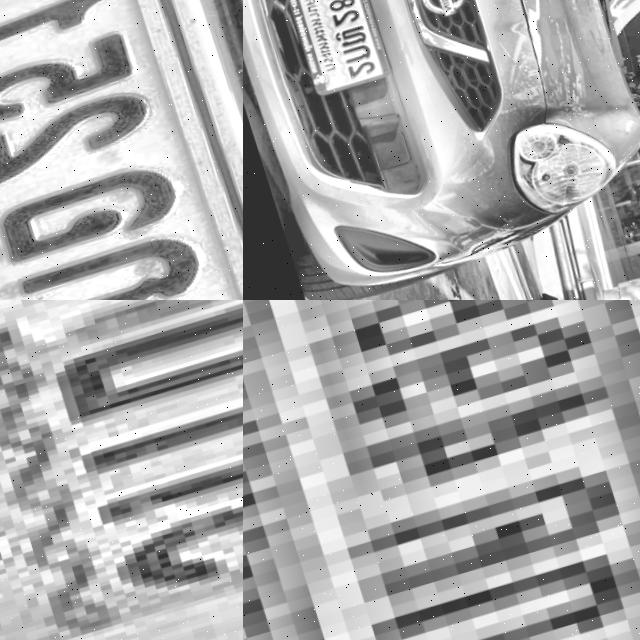license-plate: (243, 300, 640, 640), (0, 300, 243, 640), (0, 0, 243, 300), (274, 0, 389, 98)
